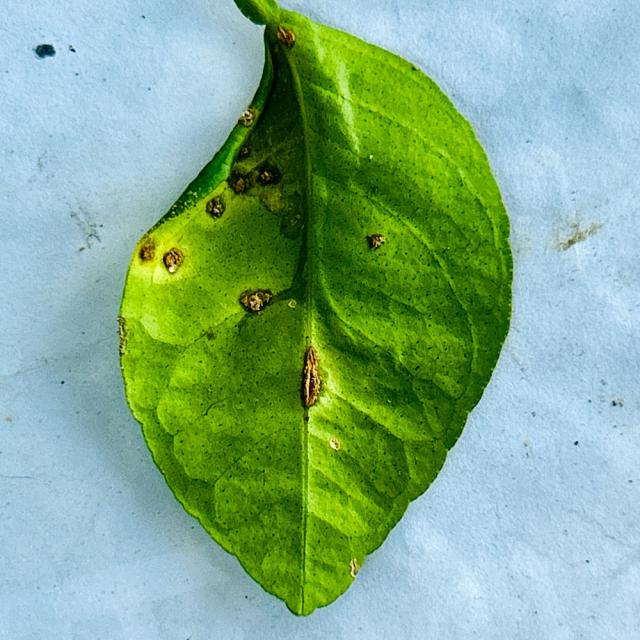Anthracnose: (300, 344, 322, 408), (238, 289, 272, 313), (364, 227, 390, 257), (162, 248, 184, 272), (205, 195, 226, 219), (229, 172, 251, 194), (276, 24, 297, 46), (256, 167, 280, 186), (138, 243, 156, 262), (238, 109, 256, 127), (349, 558, 362, 578), (329, 437, 341, 451), (287, 299, 297, 308)
Lemon: (116, 0, 515, 618)
